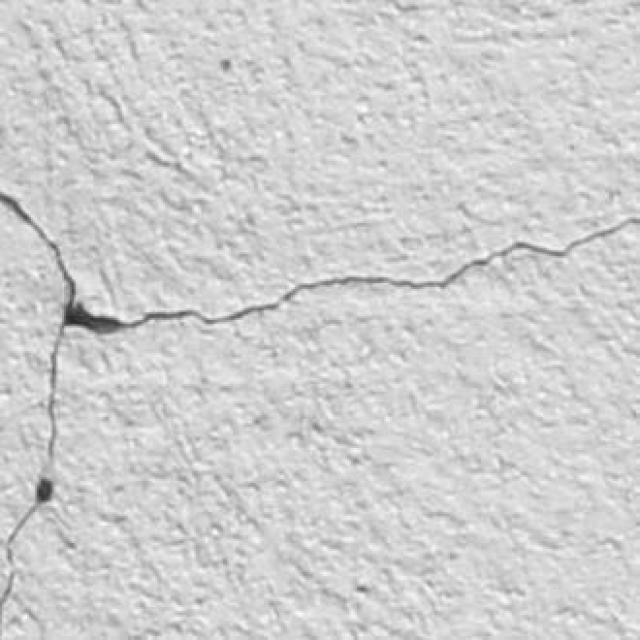crack: (0, 192, 639, 639), (68, 218, 639, 333), (0, 192, 75, 639)
